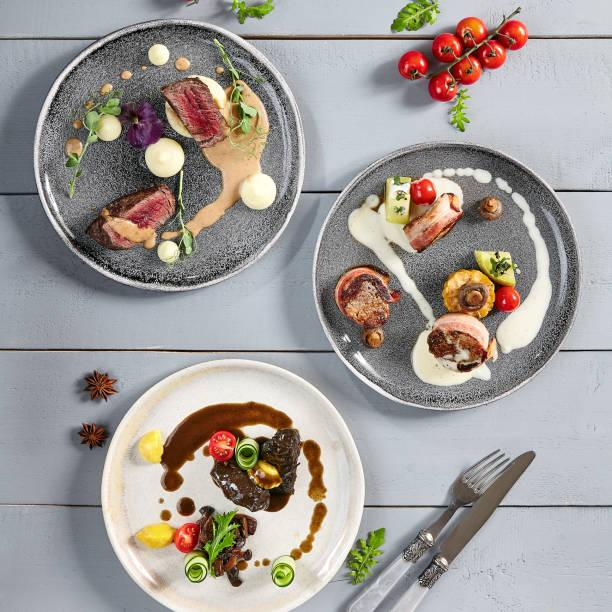Braised Crucian Carp: (31, 17, 305, 293), (310, 140, 577, 411), (101, 357, 368, 612)
